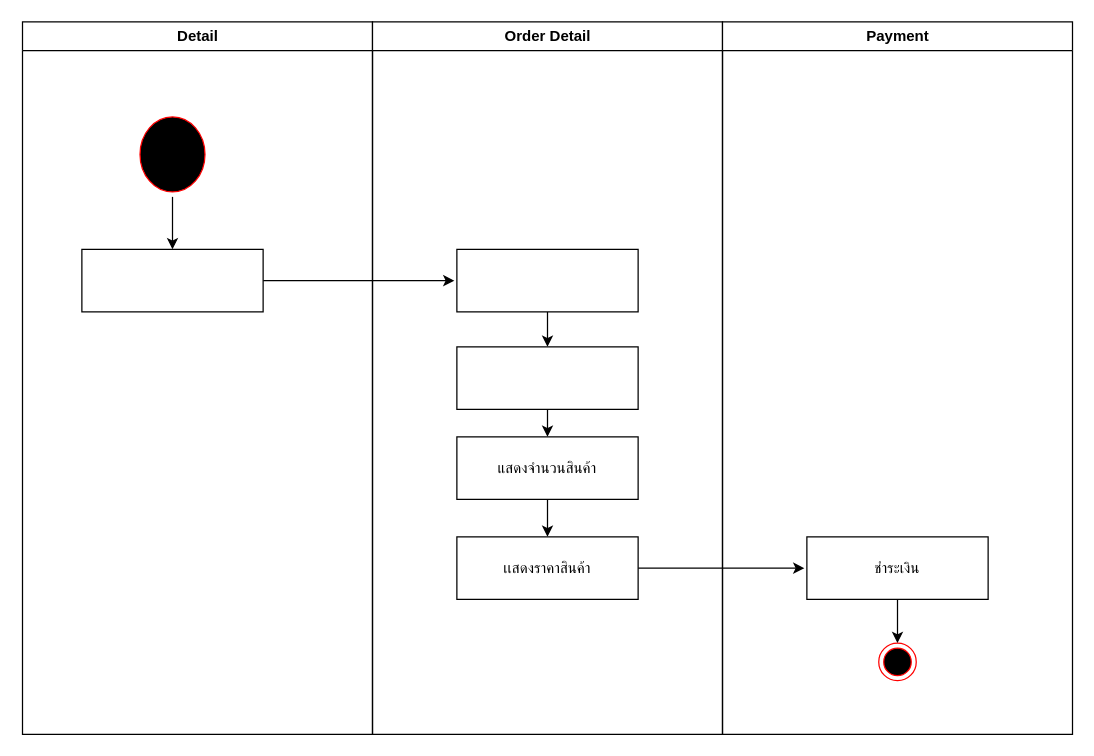
This 1094x756 diagram has some shape labels left out. Each missing label, with the centre of its shape:
เเสดงรายละเอียดการสั่งซื้อ: point 172,280
แสดงรายการสินค้า: point 547,280
แสดงรายละเอียดของรายการสินค้า: point 547,377
